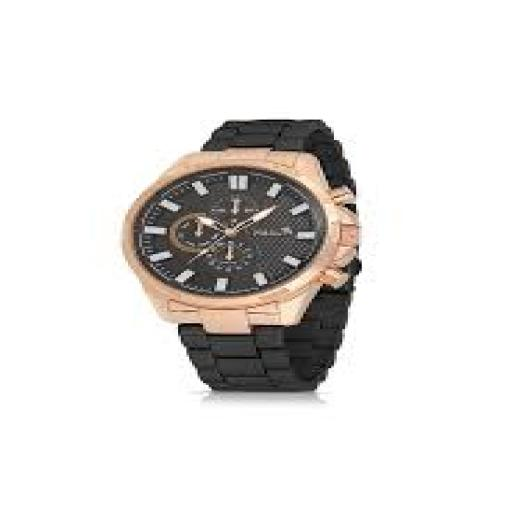KolSaati: (72, 68, 438, 466)
